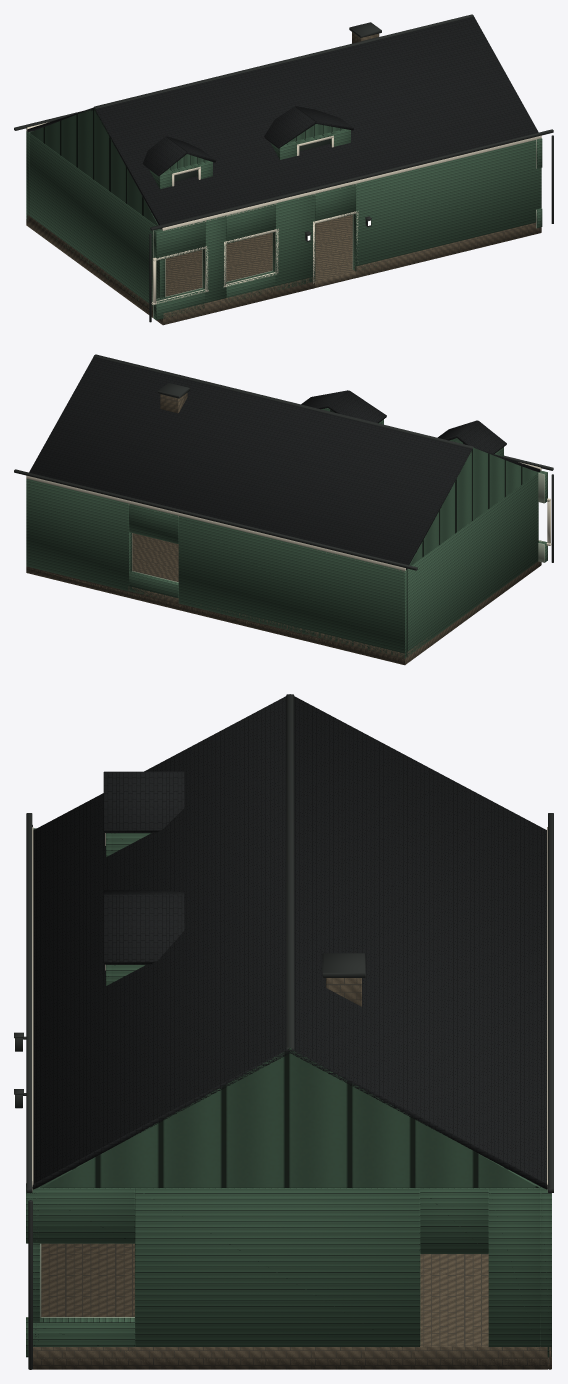
Rendered from asset_051_finished_clubhouse_exterior.glb.
The picture shows the model from 3 angles, top to bottom: view 1: azimuth 30°, elevation 25°; view 2: azimuth 150°, elevation 25°; view 3: azimuth 270°, elevation 25°; orthographic projection. The views are drawn at different scales.
Parts seen in each view (by area): view 1: MESH_RoofSouthPlane, MESH_FrontPier_East, MESH_WestWall, MESH_FoundationPlinth, MESH_FieldstoneWaterTable, MESH_WestGable, MESH_FrontPier_2, MESH_EaveGutterRuns, MESH_FrontPier_1, MESH_DormerEntry_ShingleRoof, MESH_FrontAbove_WindowWest, MESH_FrontFascia (+11 smaller); view 2: MESH_RoofNorthPlane, MESH_BackWall, MESH_WestWall, MESH_WestGable, MESH_FieldstoneWaterTable, MESH_FoundationPlinth, MESH_EaveGutterRuns, MESH_BackFascia, MESH_DormerEntry_ShingleRoof, MESH_RidgeCap, MESH_DormerWest_ShingleRoof, MESH_InteriorWarmCreamPlasterLiners (+1 smaller); view 3: MESH_RoofNorthPlane, MESH_RoofSouthPlane, MESH_EastPier_1, MESH_EastGable, MESH_FoundationPlinth, MESH_FieldstoneWaterTable, MESH_EastPier_North, MESH_EastAbove_EastWindow, MESH_DormerEntry_ShingleRoof, MESH_EaveGutterRuns, MESH_DormerWest_ShingleRoof, MESH_EastAbove_ServiceDoor (+5 smaller).
Boxes of the visible parts, x1=… form: MESH_RoofSouthPlane: x1=94, y1=17, x2=538, y2=229; MESH_FrontPier_East: x1=353, y1=140, x2=541, y2=271; MESH_WestWall: x1=29, y1=133, x2=164, y2=307; MESH_FoundationPlinth: x1=26, y1=215, x2=356, y2=323; MESH_FieldstoneWaterTable: x1=26, y1=215, x2=541, y2=325; MESH_WestGable: x1=29, y1=107, x2=158, y2=225; MESH_FrontPier_2: x1=273, y1=194, x2=315, y2=290; MESH_EaveGutterRuns: x1=14, y1=111, x2=553, y2=230; MESH_FrontPier_1: x1=203, y1=215, x2=226, y2=304; MESH_DormerEntry_ShingleRoof: x1=264, y1=106, x2=353, y2=148; MESH_FrontAbove_WindowWest: x1=153, y1=220, x2=205, y2=260; MESH_FrontFascia: x1=161, y1=135, x2=541, y2=230; MESH_RoofNorthPlane: x1=29, y1=356, x2=472, y2=569; MESH_BackWall: x1=26, y1=478, x2=407, y2=658; MESH_WestWall: x1=408, y1=473, x2=538, y2=656; MESH_WestGable: x1=409, y1=447, x2=537, y2=565; MESH_FieldstoneWaterTable: x1=26, y1=561, x2=541, y2=665; MESH_FoundationPlinth: x1=32, y1=533, x2=540, y2=664; MESH_EaveGutterRuns: x1=14, y1=455, x2=553, y2=570; MESH_BackFascia: x1=26, y1=475, x2=405, y2=571; MESH_DormerEntry_ShingleRoof: x1=301, y1=390, x2=386, y2=423; MESH_RidgeCap: x1=93, y1=354, x2=473, y2=448; MESH_DormerWest_ShingleRoof: x1=437, y1=420, x2=506, y2=453; MESH_InteriorWarmCreamPlasterLiners: x1=132, y1=473, x2=544, y2=582; MESH_RoofNorthPlane: x1=290, y1=696, x2=547, y2=1189; MESH_RoofSouthPlane: x1=32, y1=696, x2=289, y2=1189; MESH_EastPier_1: x1=135, y1=1188, x2=420, y2=1346; MESH_EastGable: x1=40, y1=1047, x2=540, y2=1187; MESH_FoundationPlinth: x1=34, y1=1243, x2=549, y2=1369; MESH_FieldstoneWaterTable: x1=33, y1=1345, x2=551, y2=1369; MESH_EastPier_North: x1=488, y1=1187, x2=540, y2=1349; MESH_EastAbove_EastWindow: x1=26, y1=1184, x2=134, y2=1243; MESH_DormerEntry_ShingleRoof: x1=103, y1=890, x2=184, y2=964; MESH_EaveGutterRuns: x1=26, y1=813, x2=553, y2=1192; MESH_DormerWest_ShingleRoof: x1=103, y1=771, x2=184, y2=832; MESH_EastAbove_ServiceDoor: x1=420, y1=1188, x2=488, y2=1253.
Bounding box in the file's own units: 17.93 × 7.13 × 10.83.
9 materials, 3 textured.
